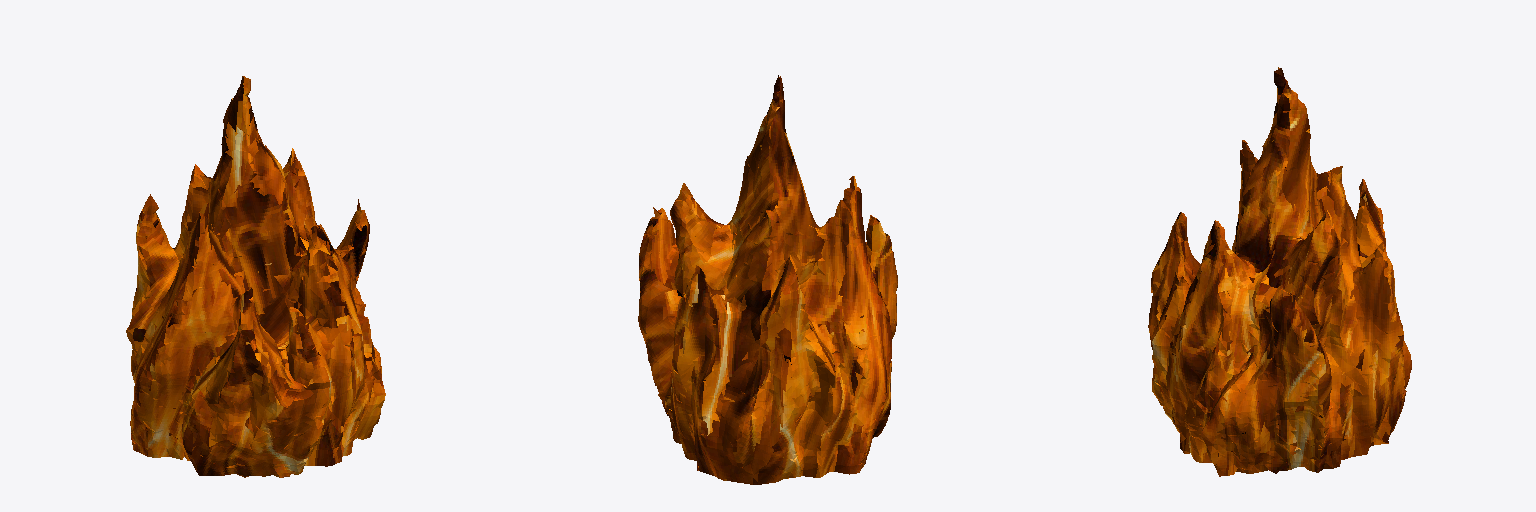
The picture shows the model from 3 angles: view 1: azimuth 30°, elevation 25°; view 2: azimuth 150°, elevation 25°; view 3: azimuth 270°, elevation 25°; orthographic projection.
Parts seen in each view (by area): view 1: YELLOW-flame-tree-top; view 2: YELLOW-flame-tree-top; view 3: YELLOW-flame-tree-top.
Boxes of the visible parts, x1=… form: YELLOW-flame-tree-top: x1=126, y1=76, x2=385, y2=477; YELLOW-flame-tree-top: x1=638, y1=75, x2=897, y2=484; YELLOW-flame-tree-top: x1=1148, y1=67, x2=1411, y2=476.
Bounding box in the file's own units: 1.19 × 1.73 × 1.14.
1 materials, 1 textured.